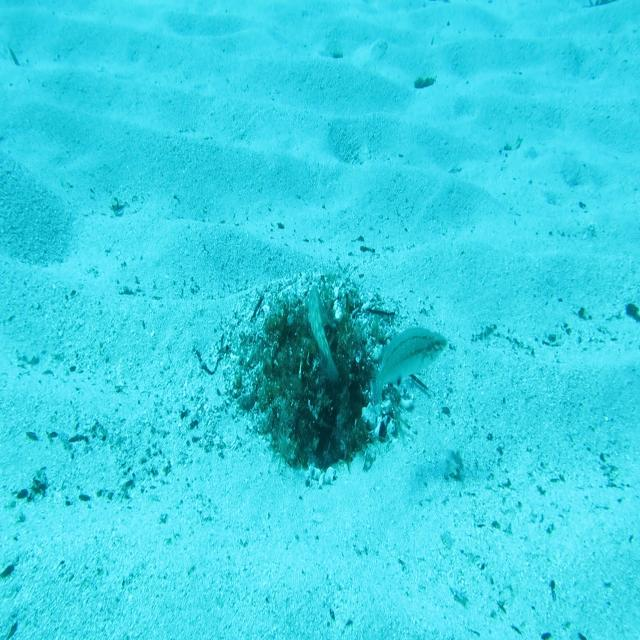NIP_CORE: (303, 280, 342, 394)
core_nest: (292, 322, 335, 368)
female: (368, 322, 452, 422)
nest: (208, 254, 423, 508)
vegetation: (412, 71, 439, 93)
